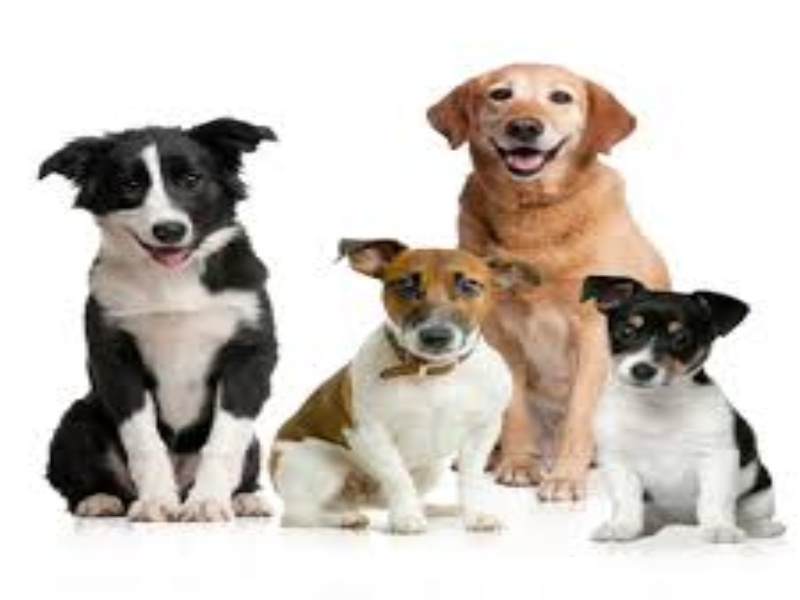dog: (35, 112, 292, 535), (269, 235, 512, 541), (573, 272, 795, 548), (424, 57, 662, 251)
